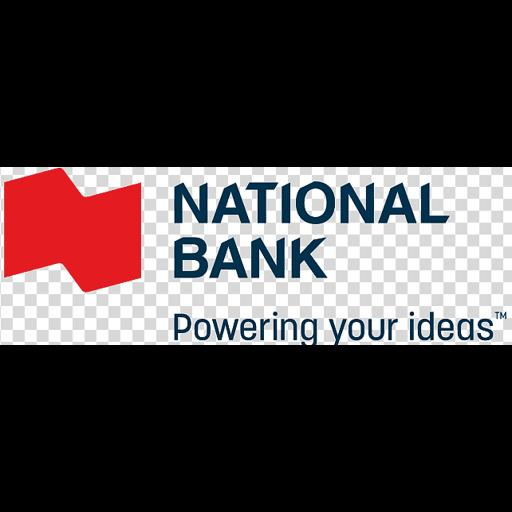National Bank of Canada: (0, 167, 512, 345)
